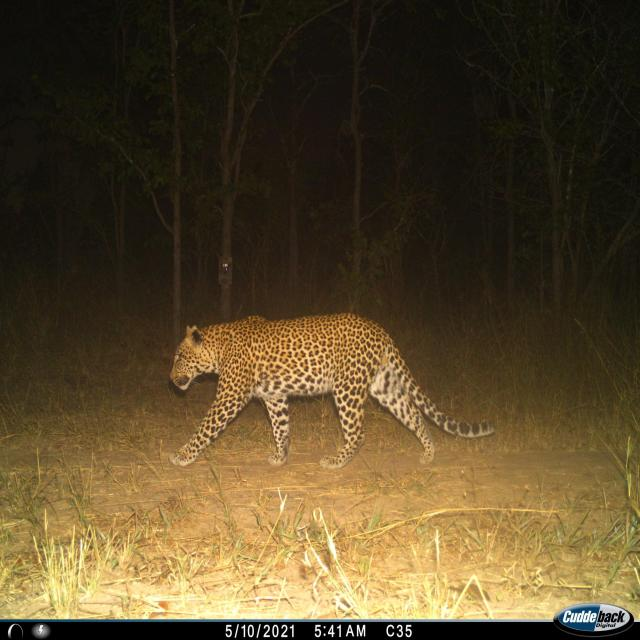Leopard: (165, 308, 498, 480)
